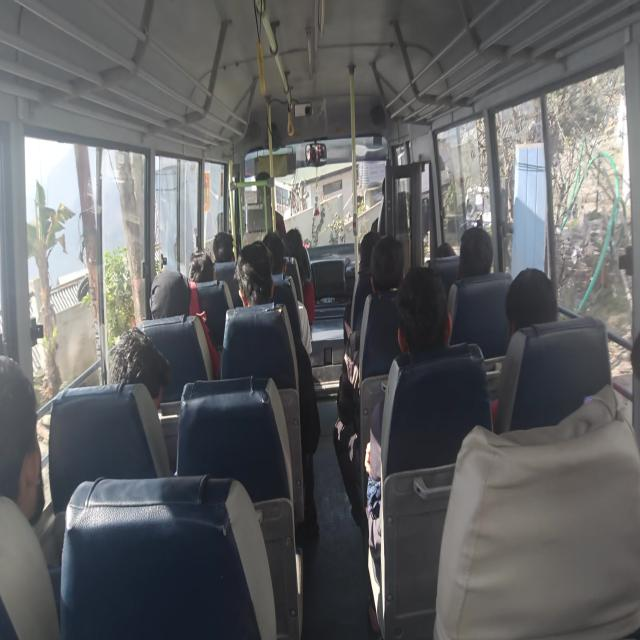person: (0, 371, 62, 620), (106, 328, 177, 427), (396, 273, 461, 377), (601, 324, 640, 444), (514, 267, 561, 362), (243, 245, 281, 310), (155, 260, 194, 322), (455, 224, 495, 281), (186, 237, 224, 291), (354, 236, 386, 280), (372, 240, 401, 288), (264, 223, 290, 271), (212, 230, 242, 265), (426, 243, 459, 265), (288, 219, 312, 249)
